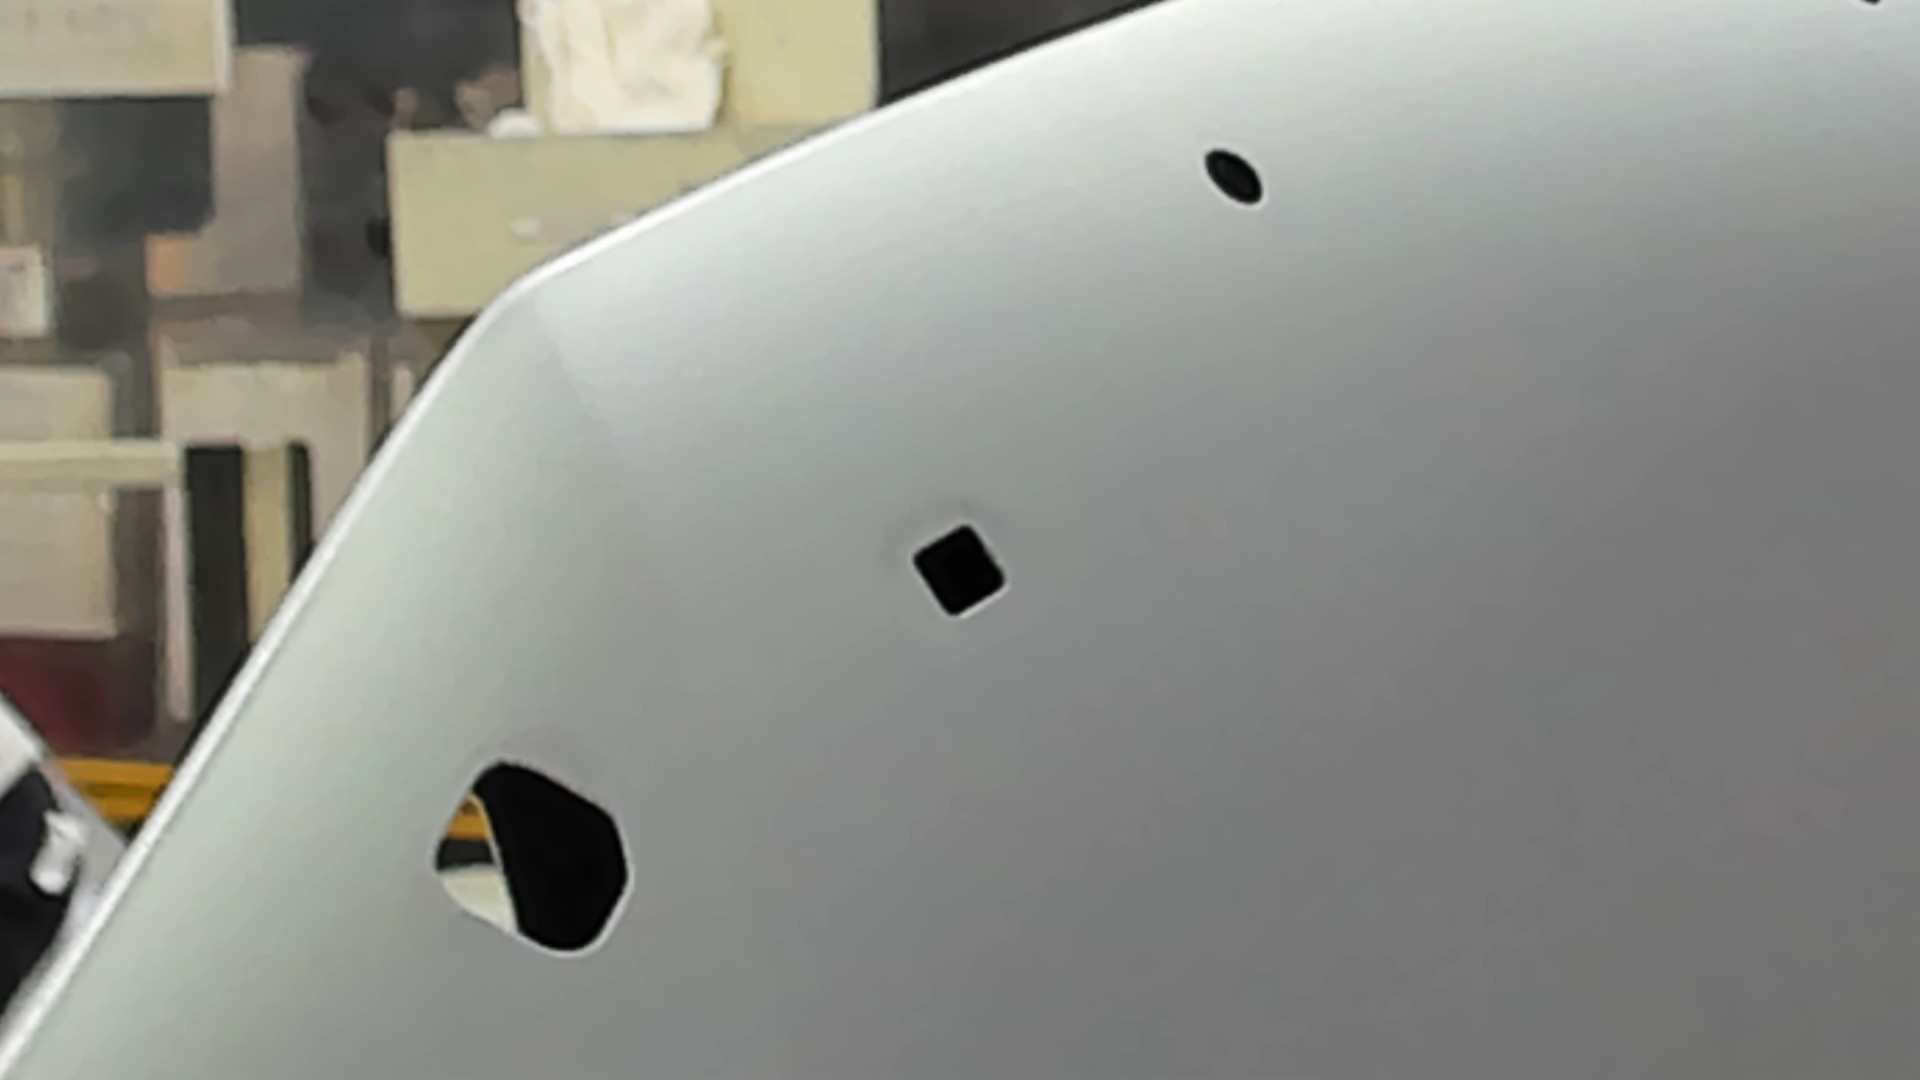capo: (1035, 225, 1920, 1080)
chico: (1201, 145, 1266, 214)
grande: (422, 748, 640, 964)
mediano: (907, 509, 1014, 626)
